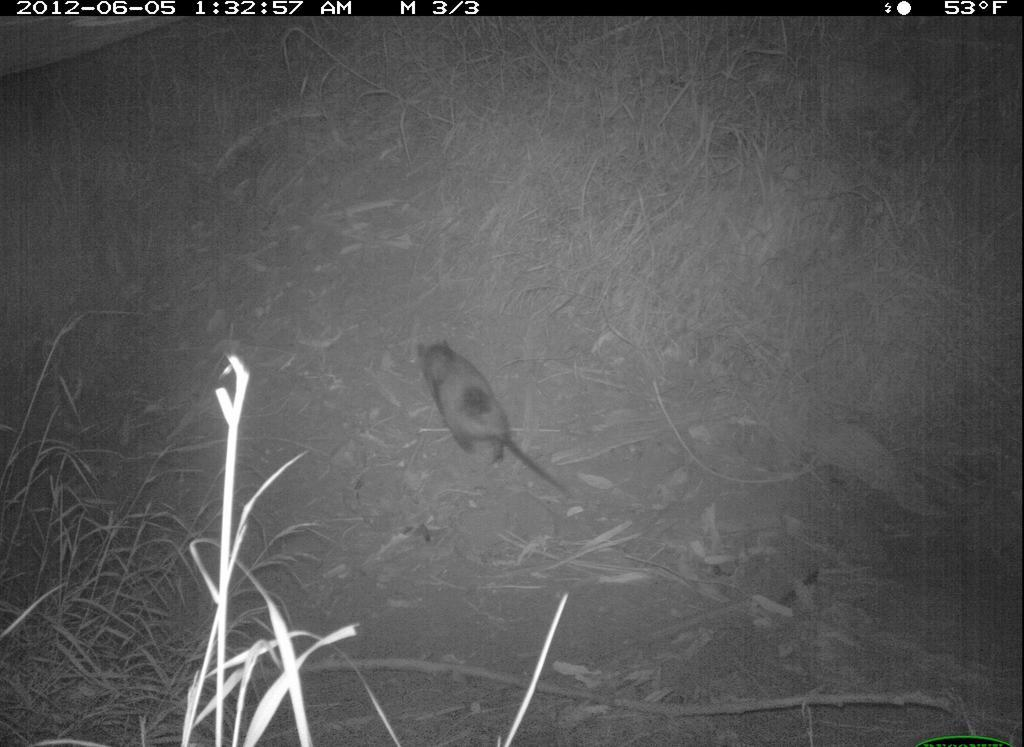opossum: (413, 336, 562, 504)
